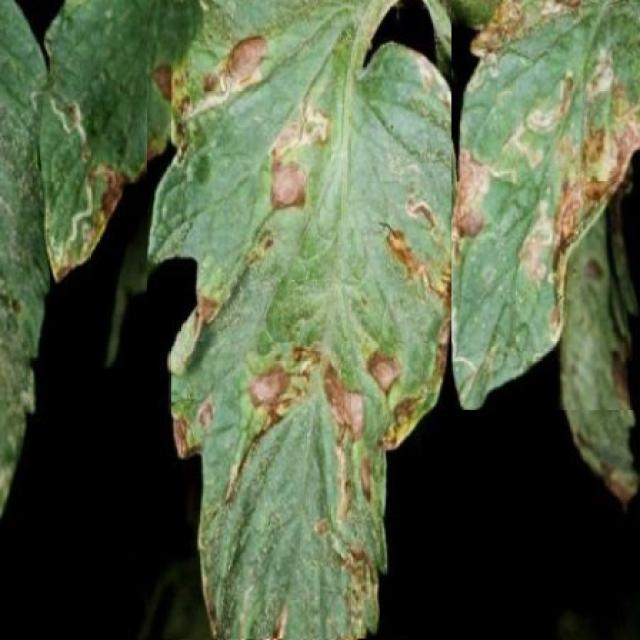Early Blight: (147, 0, 469, 639), (451, 0, 640, 410)
